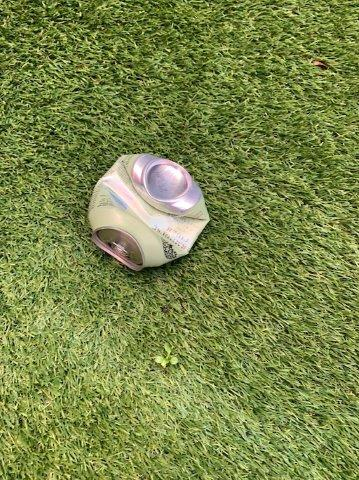kaleng: (89, 154, 209, 270)
